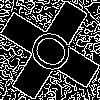O: (25, 25, 85, 83)
